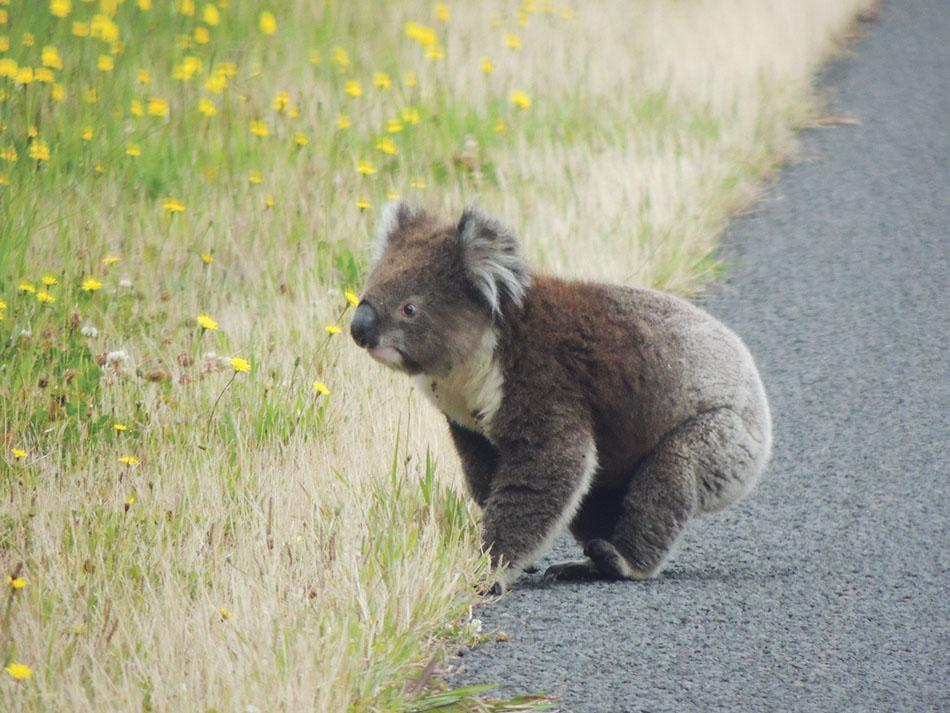animal: (327, 190, 812, 603)
